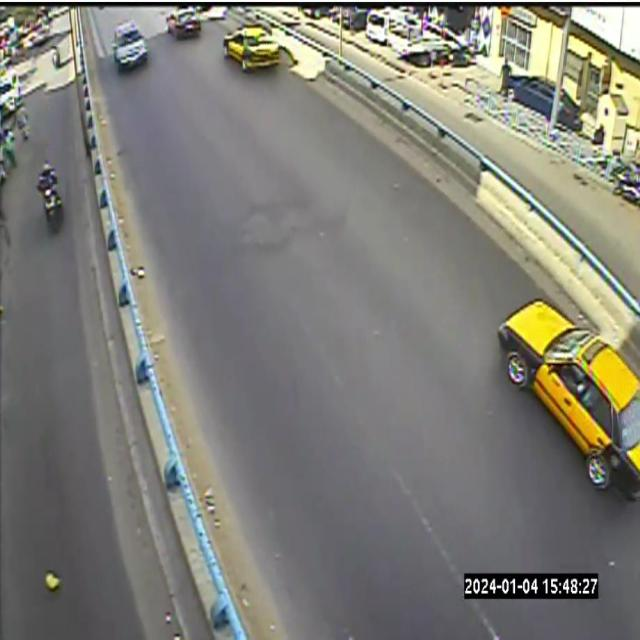car: (497, 300, 639, 499), (225, 26, 280, 71), (113, 21, 147, 72), (166, 7, 200, 39)
